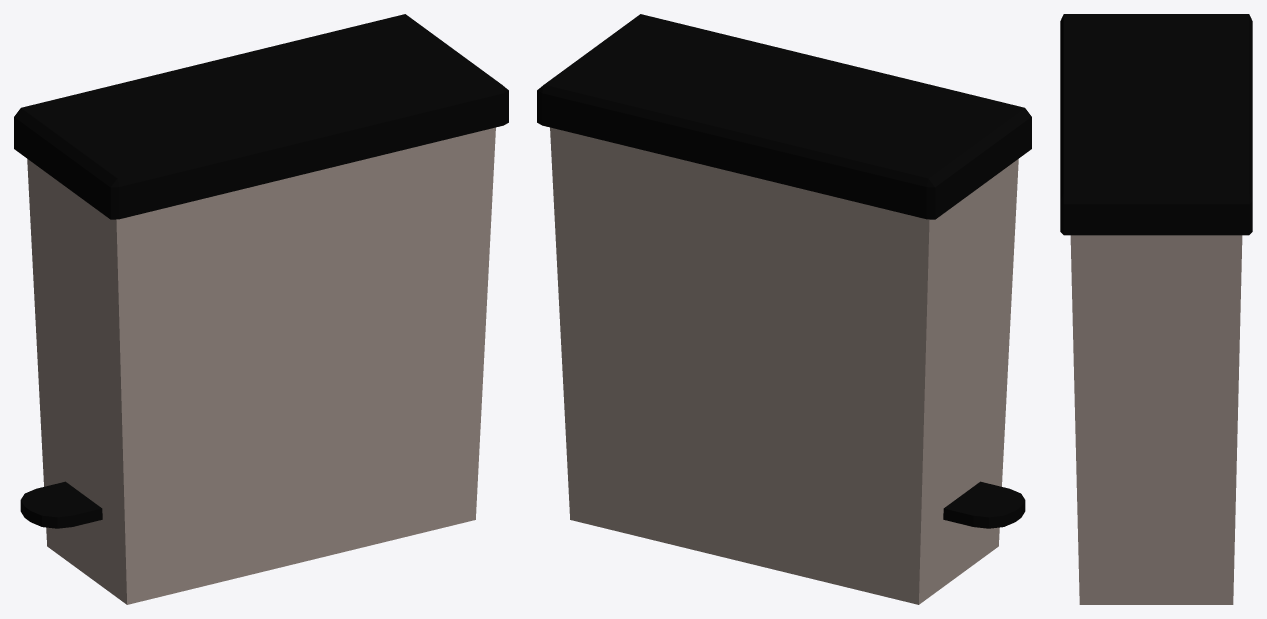
The model's file is dust_bin.fbx.
The picture shows the model from 3 angles, left to right: view 1: azimuth 30°, elevation 25°; view 2: azimuth 150°, elevation 25°; view 3: azimuth 270°, elevation 25°; orthographic projection. The views are drawn at different scales.
Visible parts, largest first — view 1: dust_bin, cap; view 2: dust_bin, cap; view 3: dust_bin, cap.
Boxes of the visible parts, x1,y1,x2,y2 form: dust_bin: [20, 127, 495, 604]; cap: [14, 14, 508, 219]; dust_bin: [550, 127, 1025, 604]; cap: [537, 14, 1031, 219]; dust_bin: [1070, 235, 1242, 604]; cap: [1060, 14, 1252, 235].
Bounding box in the file's own units: 1.12 × 1.08 × 0.4473.
